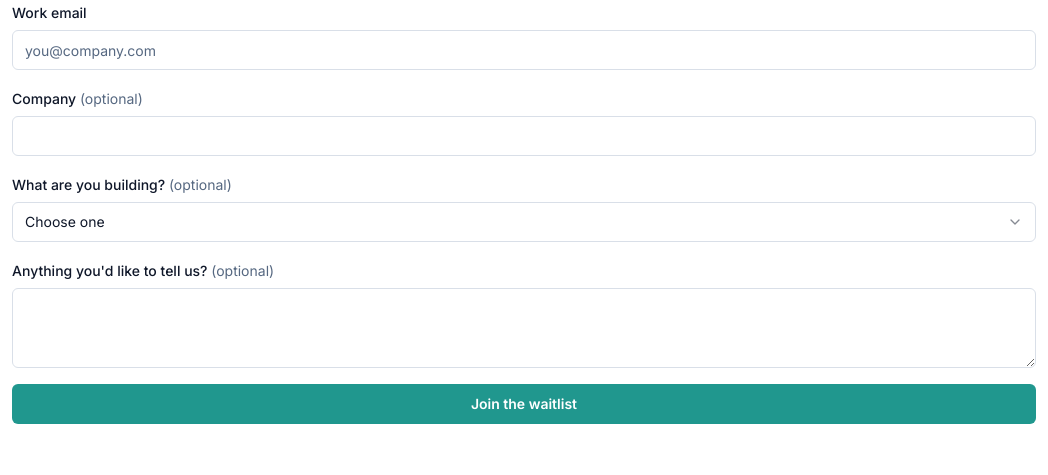
Test: CloudWaitlistForm › network failure shows the error state
The width and height of the screenshot is (1048, 475).
Type "founder@example.com" into the field labelled "Work email". click: [524, 50]
box: [12,30,1036,70]
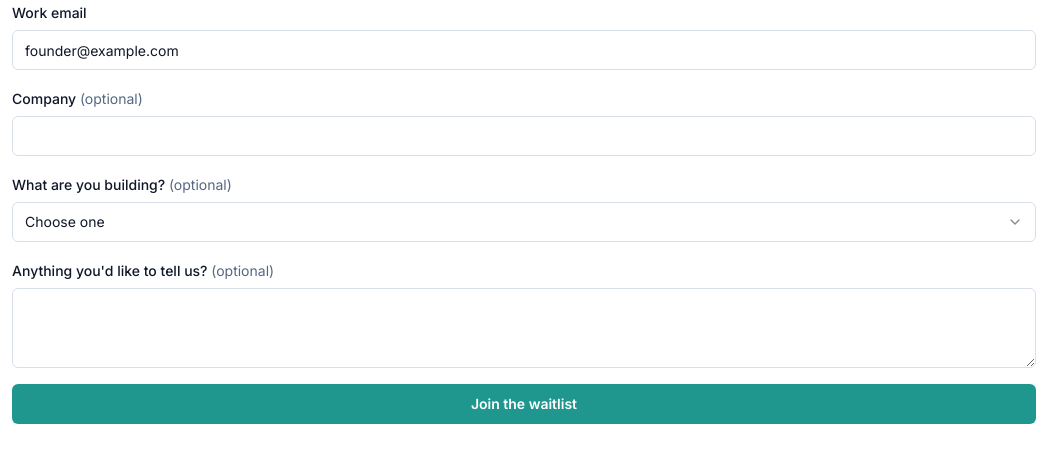
Click the button "Join the waitlist". click: [524, 404]
box: [12,384,1036,424]
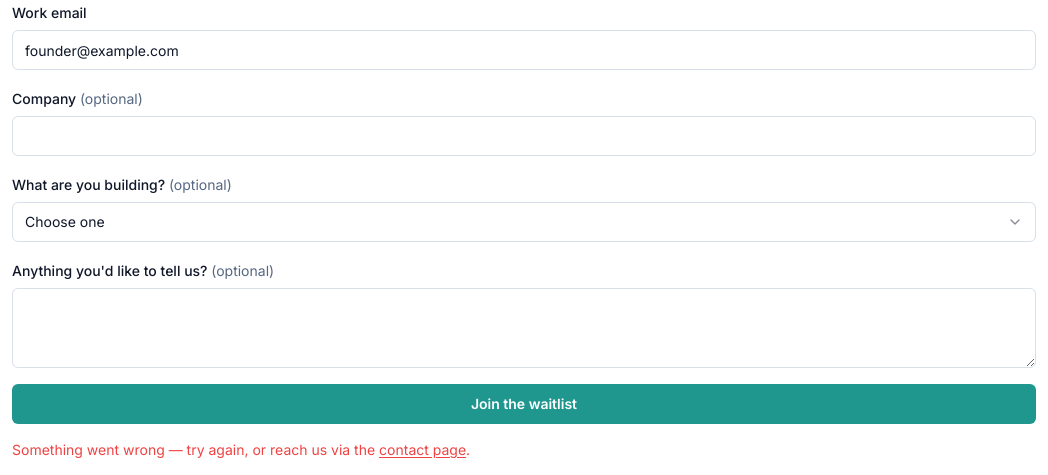
Result: the text "Something went wrong — try again, or reach us via the contact page ." is shown at [12,441,470,458]
